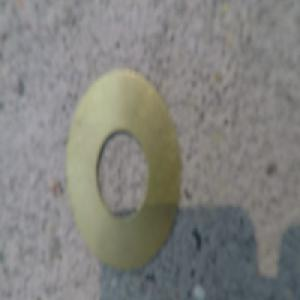Washer: (68, 71, 181, 271)
